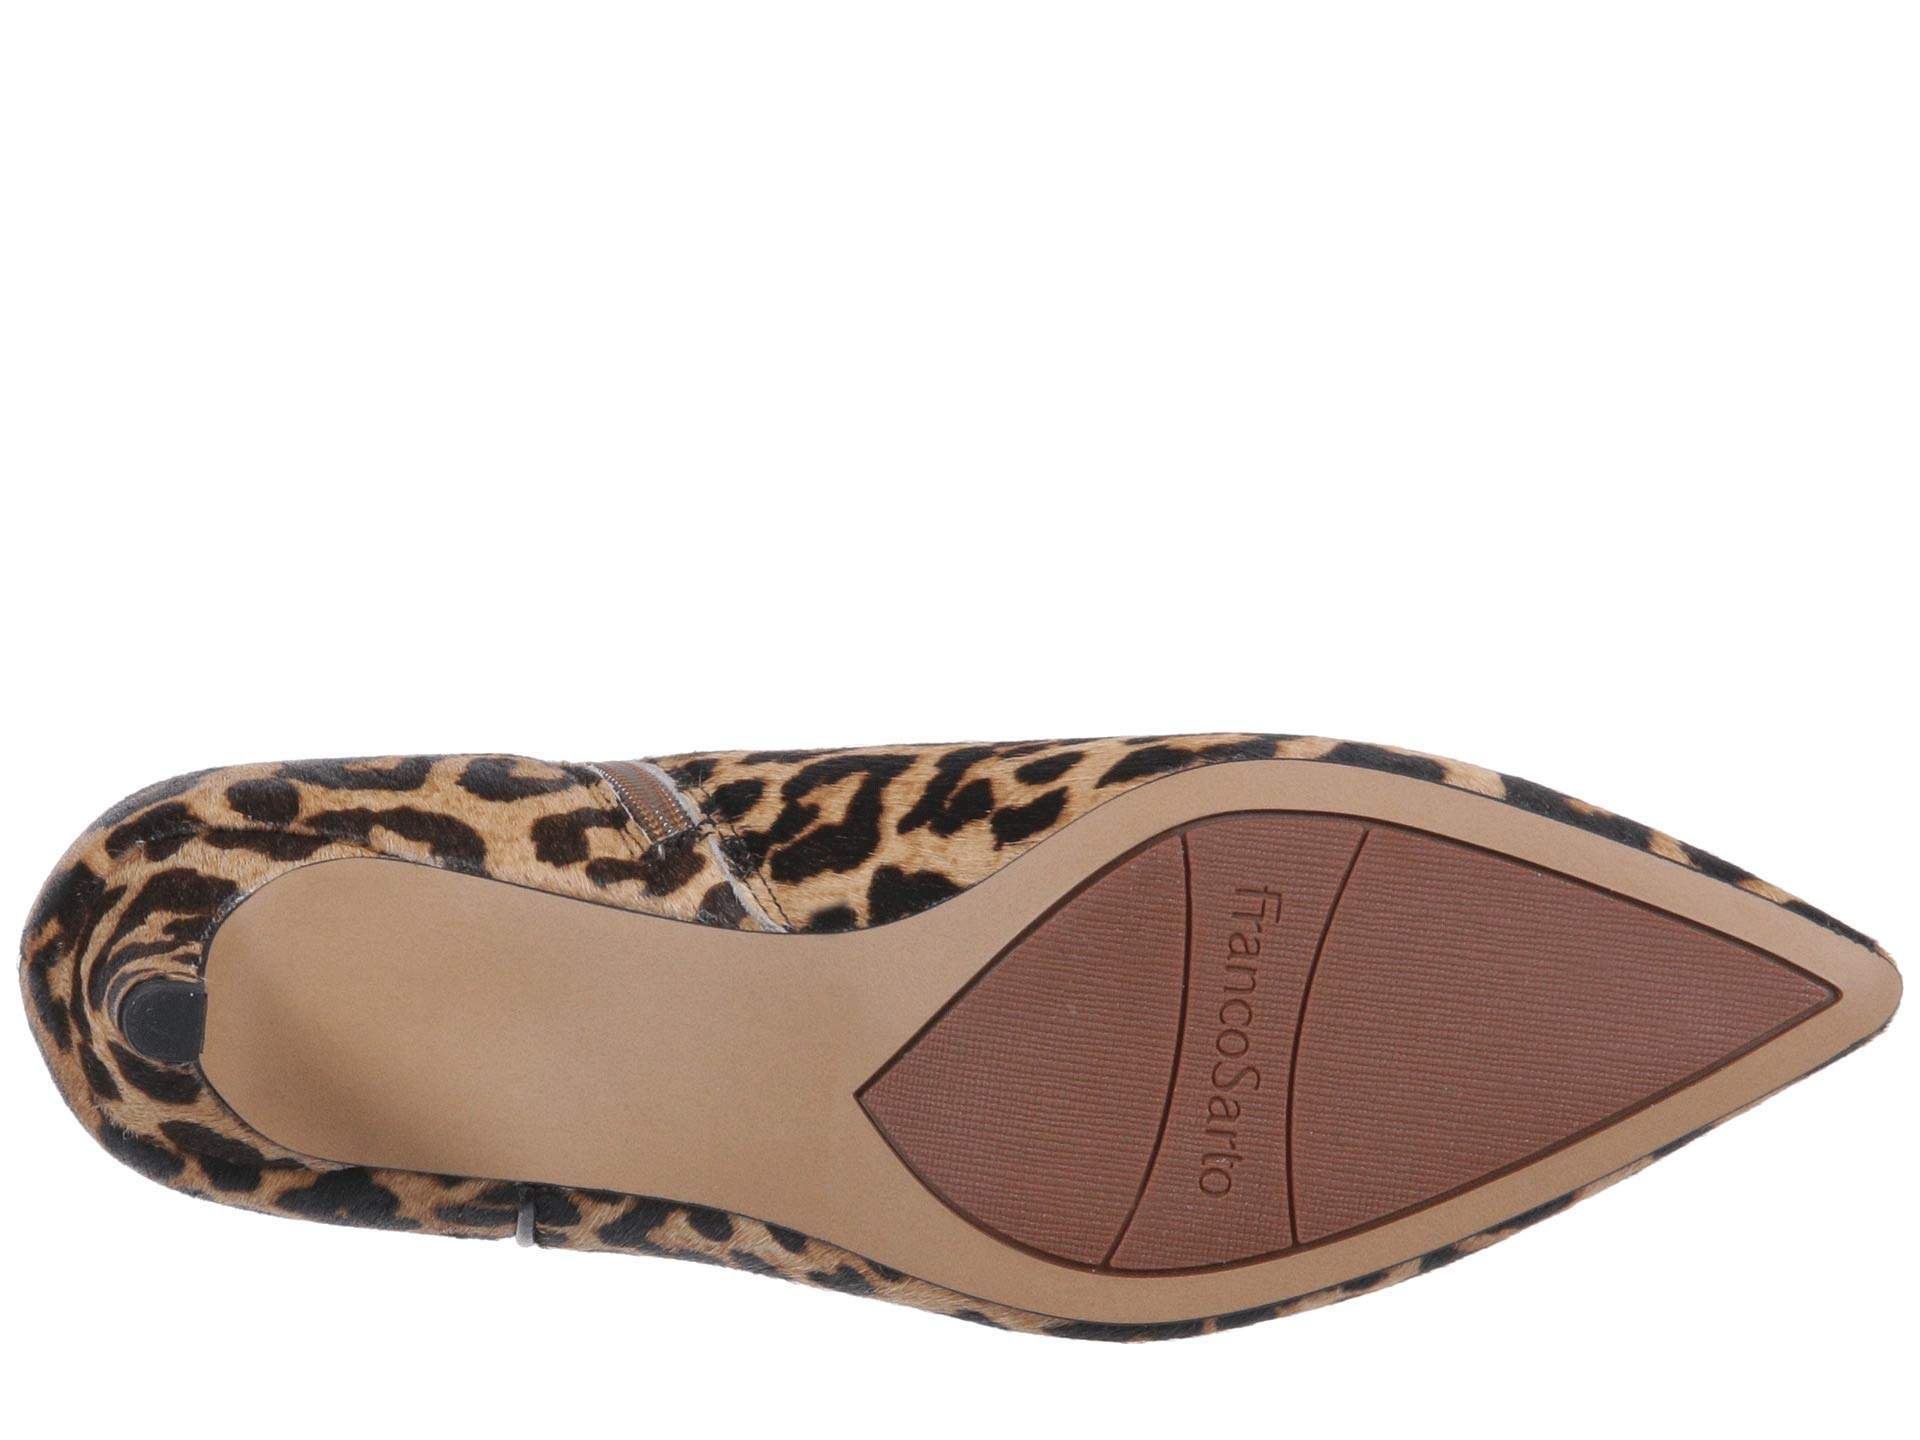circle: (1105, 862, 1457, 1218)
line: (1105, 862, 1457, 1218)
text: (1105, 862, 1457, 1218)
